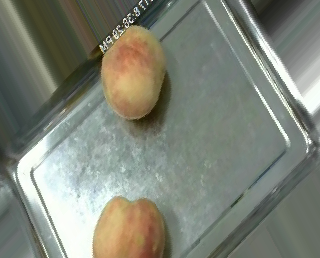Peach: (100, 26, 166, 119), (90, 196, 168, 257)
